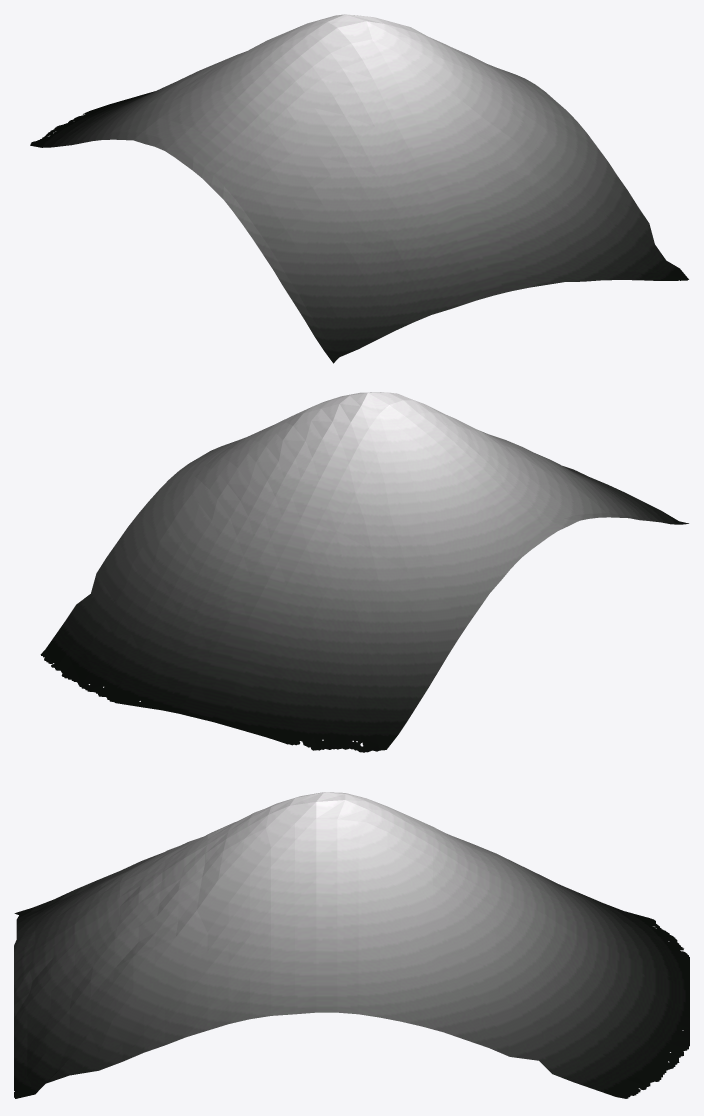
3 views of the same model, one above another, from view 1: azimuth 30°, elevation 25°; view 2: azimuth 150°, elevation 25°; view 3: azimuth 270°, elevation 25° (orthographic). The views are drawn at different scales.
Visible parts, largest first — view 1: bbbbbbbbbb; view 2: bbbbbbbbbb; view 3: bbbbbbbbbb.
Part boxes in pixels (bbox=[...]): bbbbbbbbbb: bbox=[30, 14, 688, 363]; bbbbbbbbbb: bbox=[40, 392, 688, 752]; bbbbbbbbbb: bbox=[14, 792, 689, 1098].
Size of the model in its own units: 237 by 127 by 372.
1 material, 1 textured.
